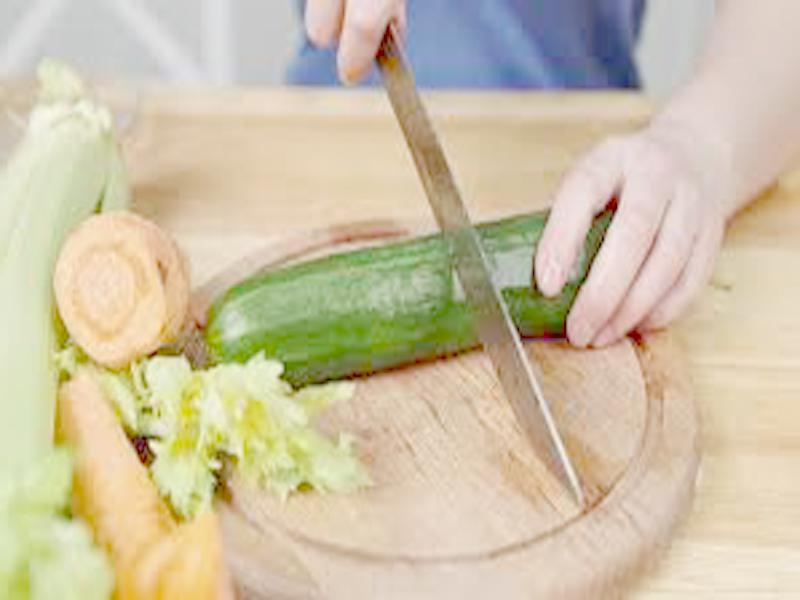Cucumber: (202, 207, 614, 379)
